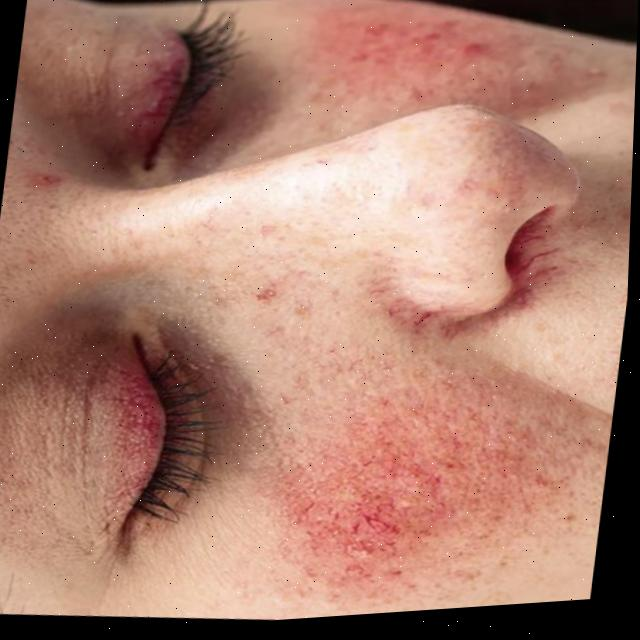Rosacea: (305, 378, 496, 585), (315, 0, 533, 92), (76, 347, 165, 505), (133, 31, 181, 147)
